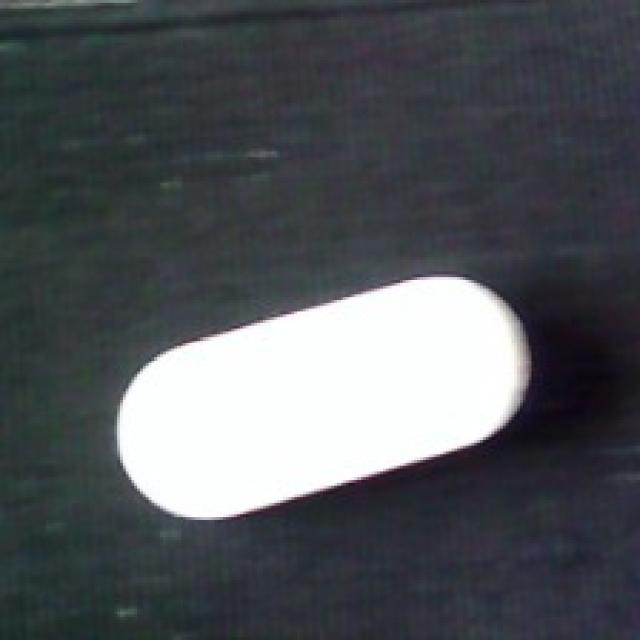no-defect: (112, 271, 537, 520)
